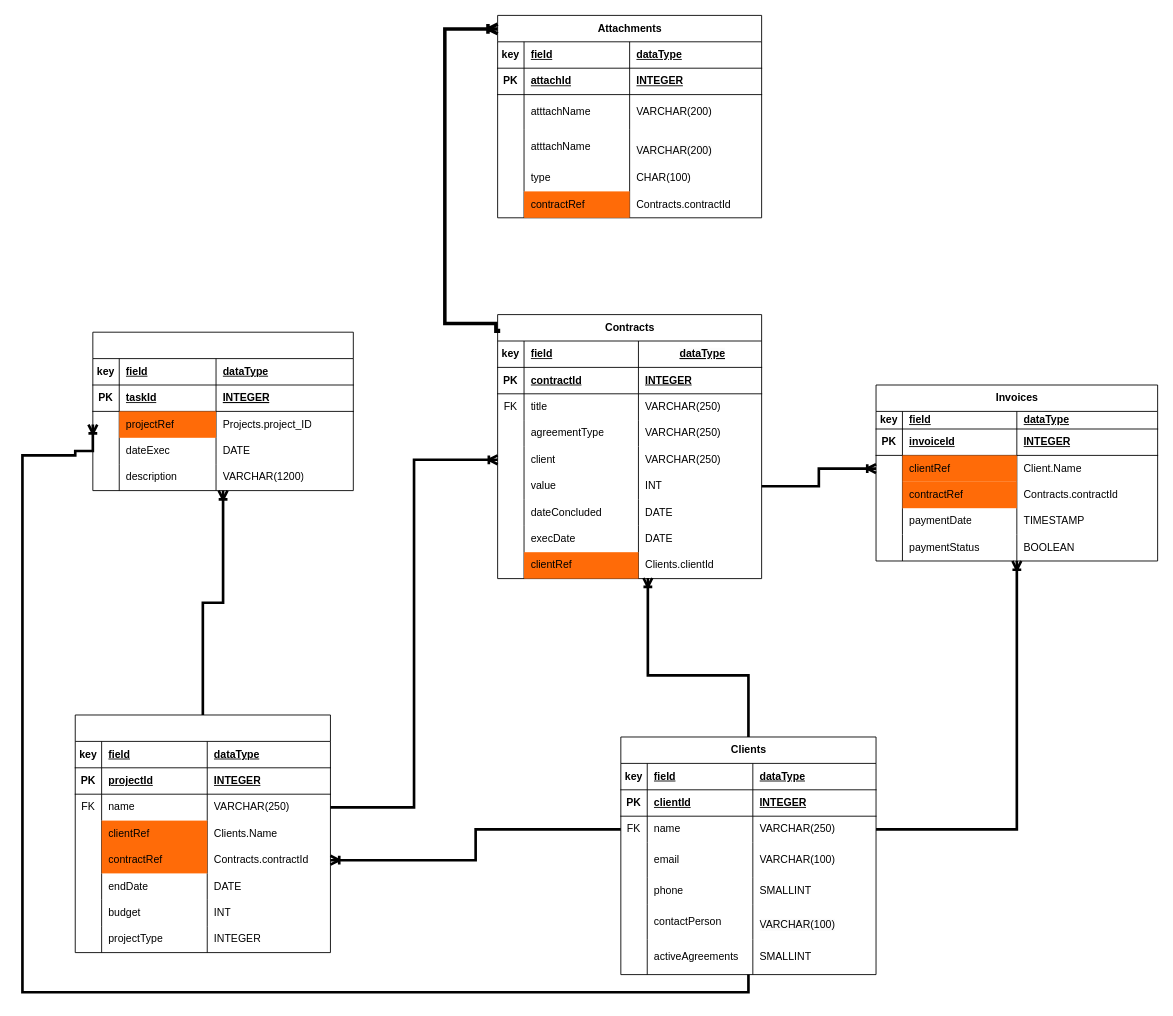
This 1173x1016 diagram has some shape labels left out. The shapes that lost their labels are listed below. From the top down, each one's box as (x1, y1, x2, y2) in pixels, then its label:
(92, 331, 353, 491): Tasks
(74, 714, 330, 953): Projects
